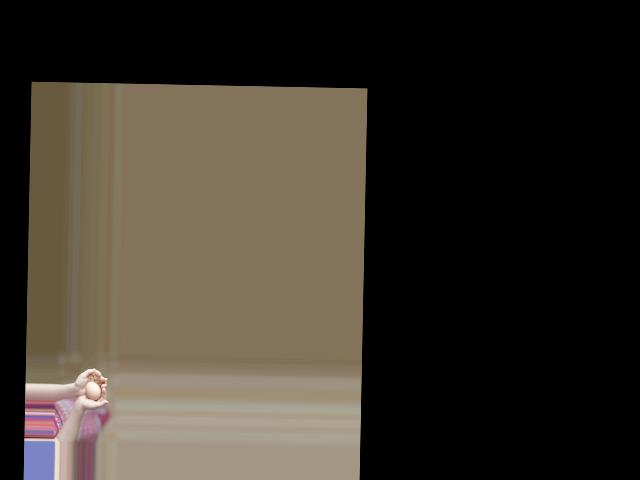egg: (86, 381, 101, 400)
